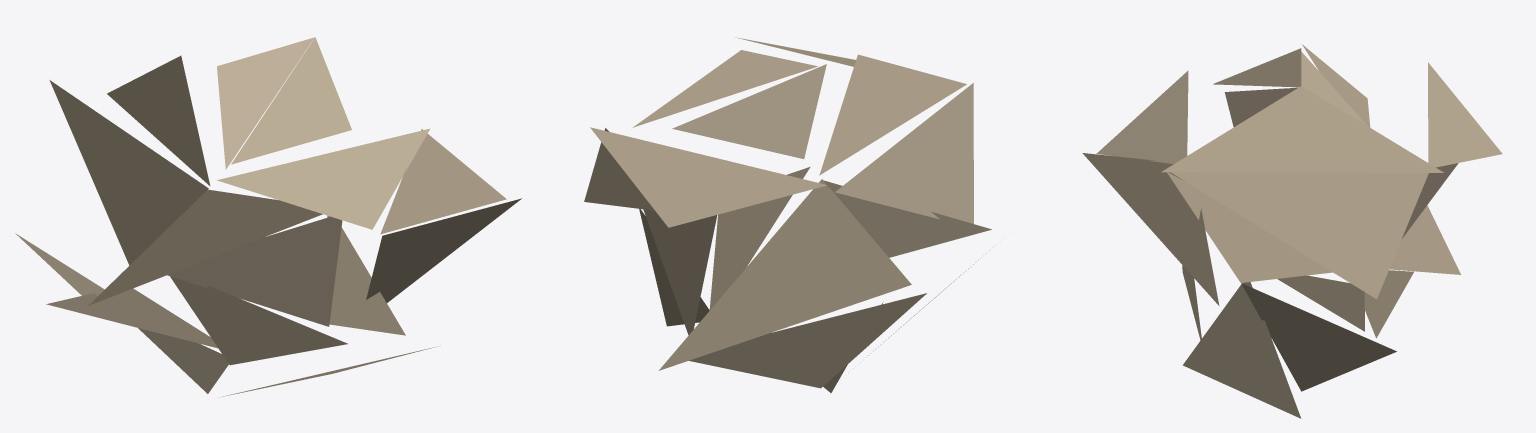
File: rock-c.glb
3 renders of one model, left to right at view 1: azimuth 30°, elevation 25°; view 2: azimuth 150°, elevation 25°; view 3: azimuth 270°, elevation 25°, orthographic. The views are drawn at different scales.
Visible parts, largest first — view 1: Rock_2; view 2: Rock_2; view 3: Rock_2.
Boxes of the visible parts, <box> form: Rock_2: <box>15,37,521,397</box>; Rock_2: <box>584,37,995,392</box>; Rock_2: <box>1082,44,1502,418</box>.
Size of the model in its own units: 2.2 by 1.75 by 2.09.
